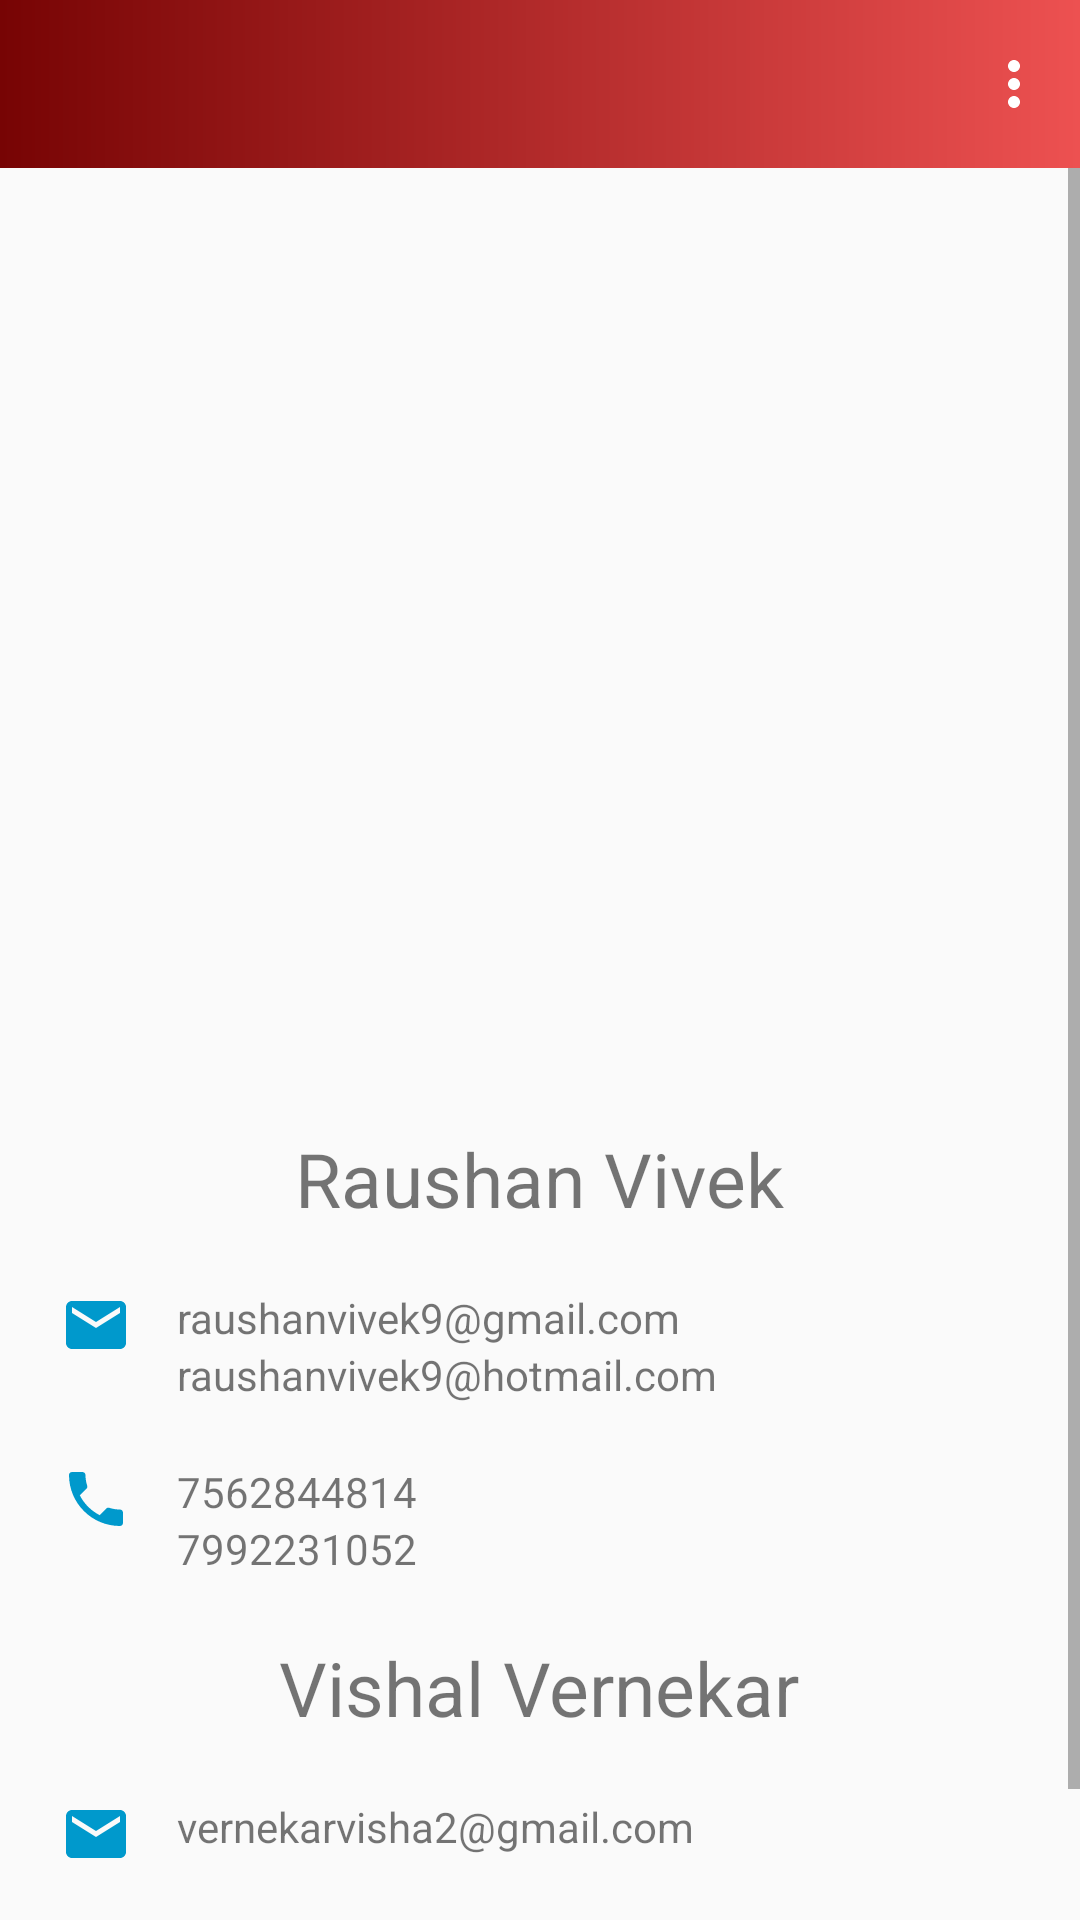

Icon bounding boxes for this 1080px x 1920px phone screenshot, format [x1=x1, y1=y1, x2=x2, y2=y2]:
call: [x1=69, y1=1472, x2=123, y2=1526]
email: [x1=66, y1=1301, x2=126, y2=1349], [x1=66, y1=1810, x2=126, y2=1858]
